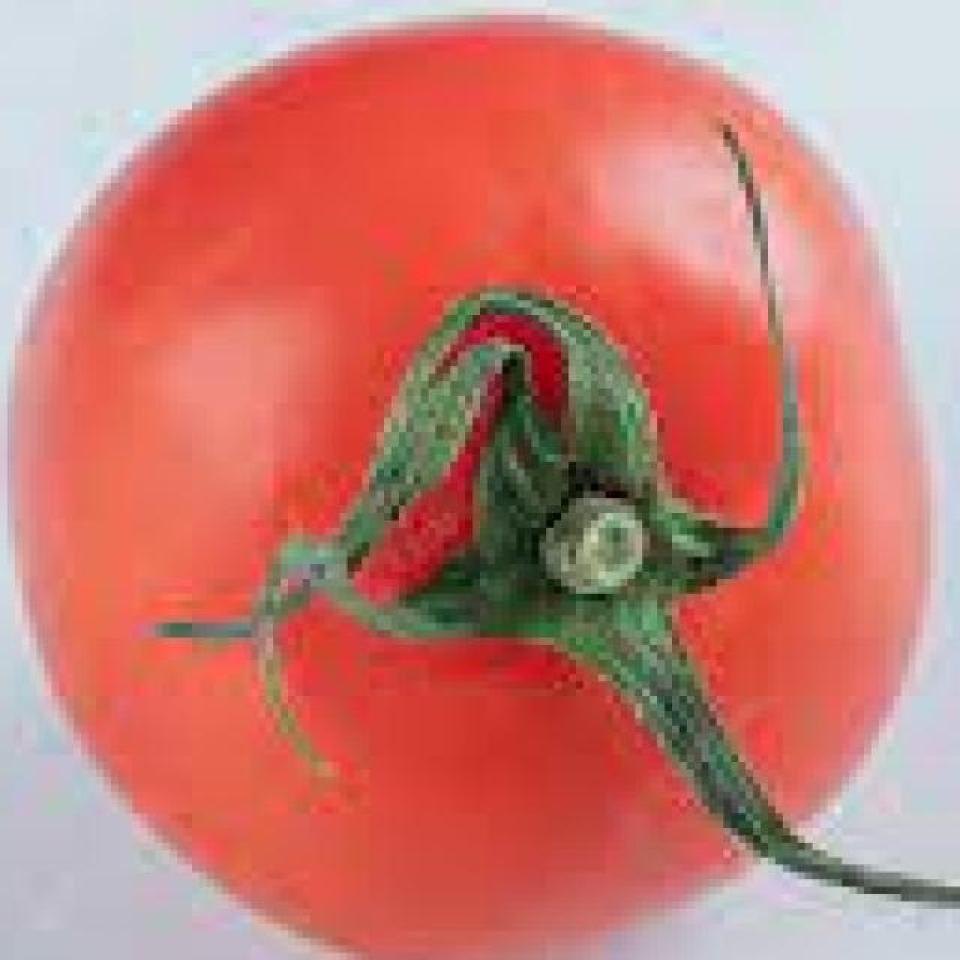Healthy: (30, 12, 925, 933)
